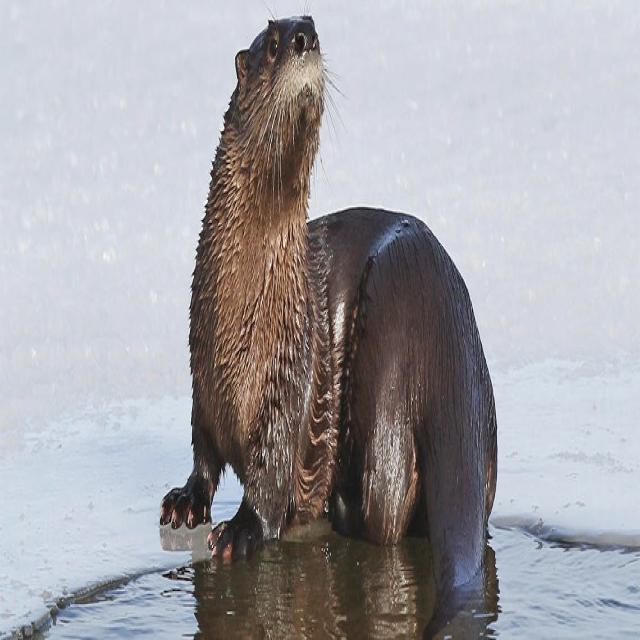otter: (161, 16, 497, 588)
